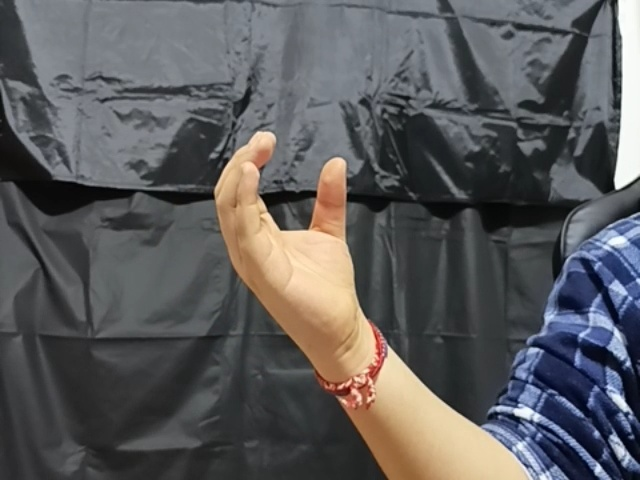C: (210, 129, 379, 341)
